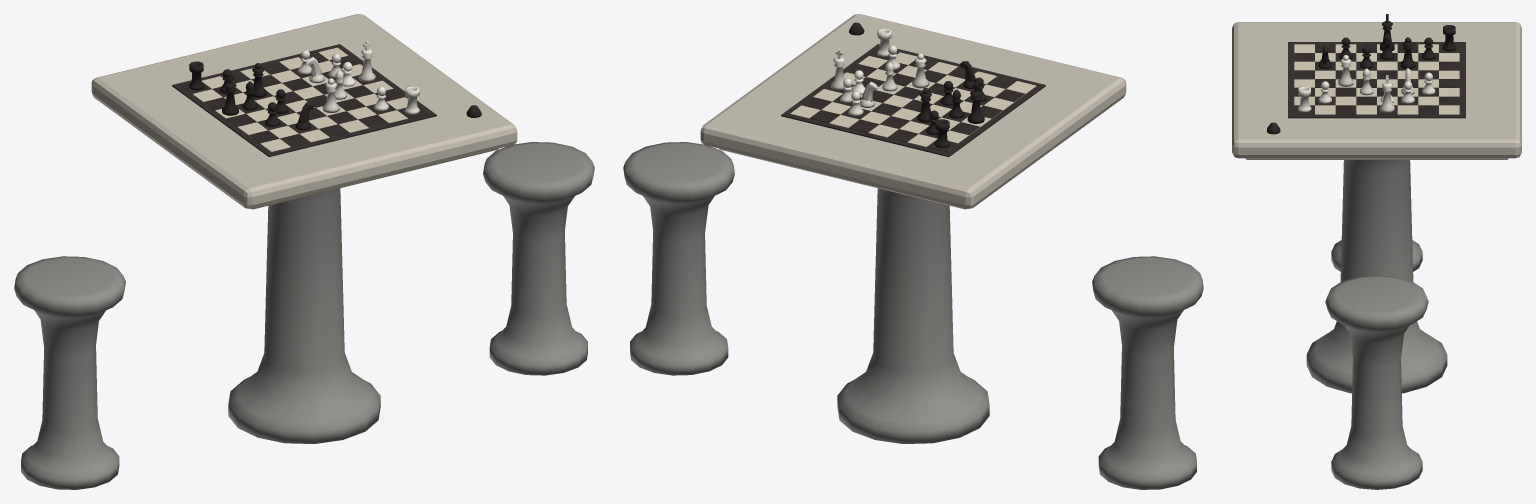
The model's file is parkChessTable.glb.
3 views of the same model, side by side, from view 1: azimuth 30°, elevation 25°; view 2: azimuth 150°, elevation 25°; view 3: azimuth 270°, elevation 25° (orthographic). The views are drawn at different scales.
Visible parts, largest first — view 1: table; view 2: table; view 3: table.
Boxes of the visible parts, left/top/right/bottom form: table: left=14, top=14, right=594, bottom=489; table: left=623, top=14, right=1203, bottom=489; table: left=1232, top=14, right=1521, bottom=489.
Size of the model in its own units: 1.45 by 0.855 by 0.7.
